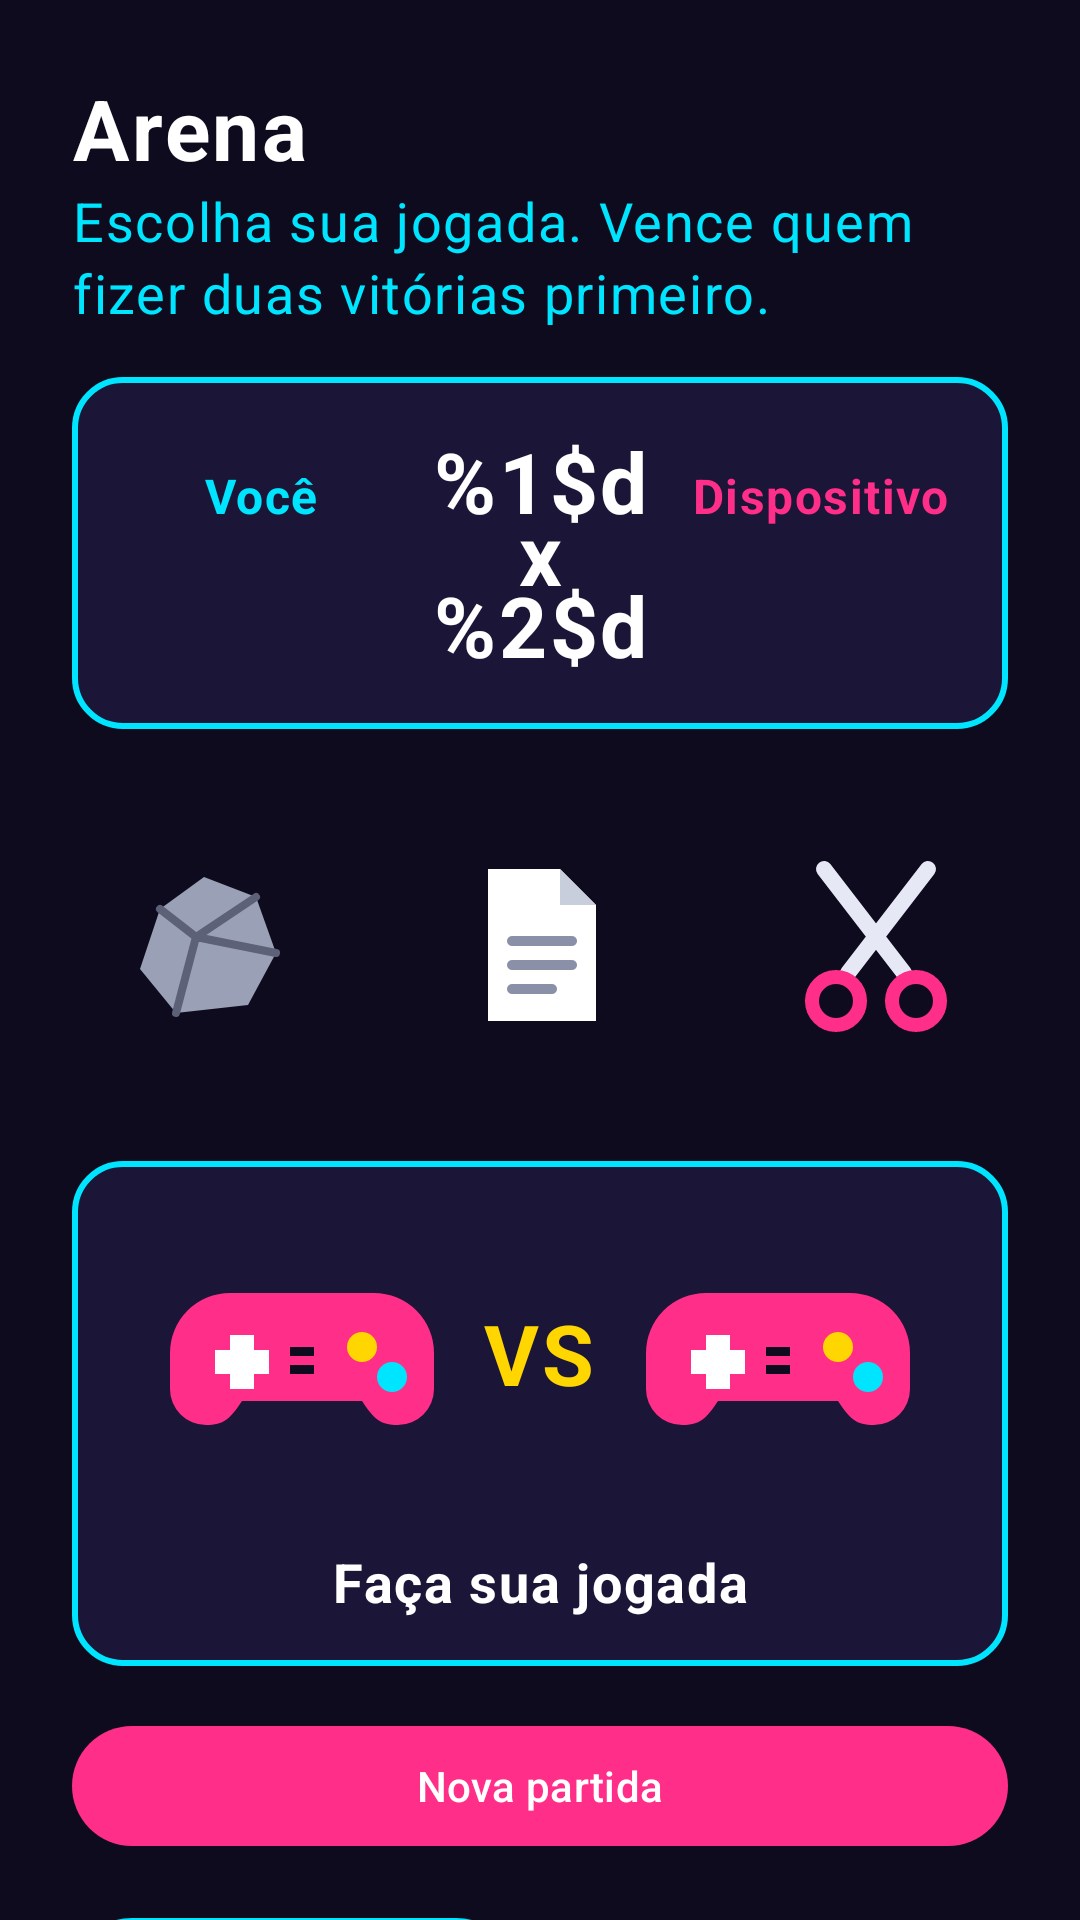

Screen size 1080x1920. Icon name, then its center in pixels as (x,y):
Papel: (542,945)
Pedra: (210,947)
Tesoura: (876,946)
